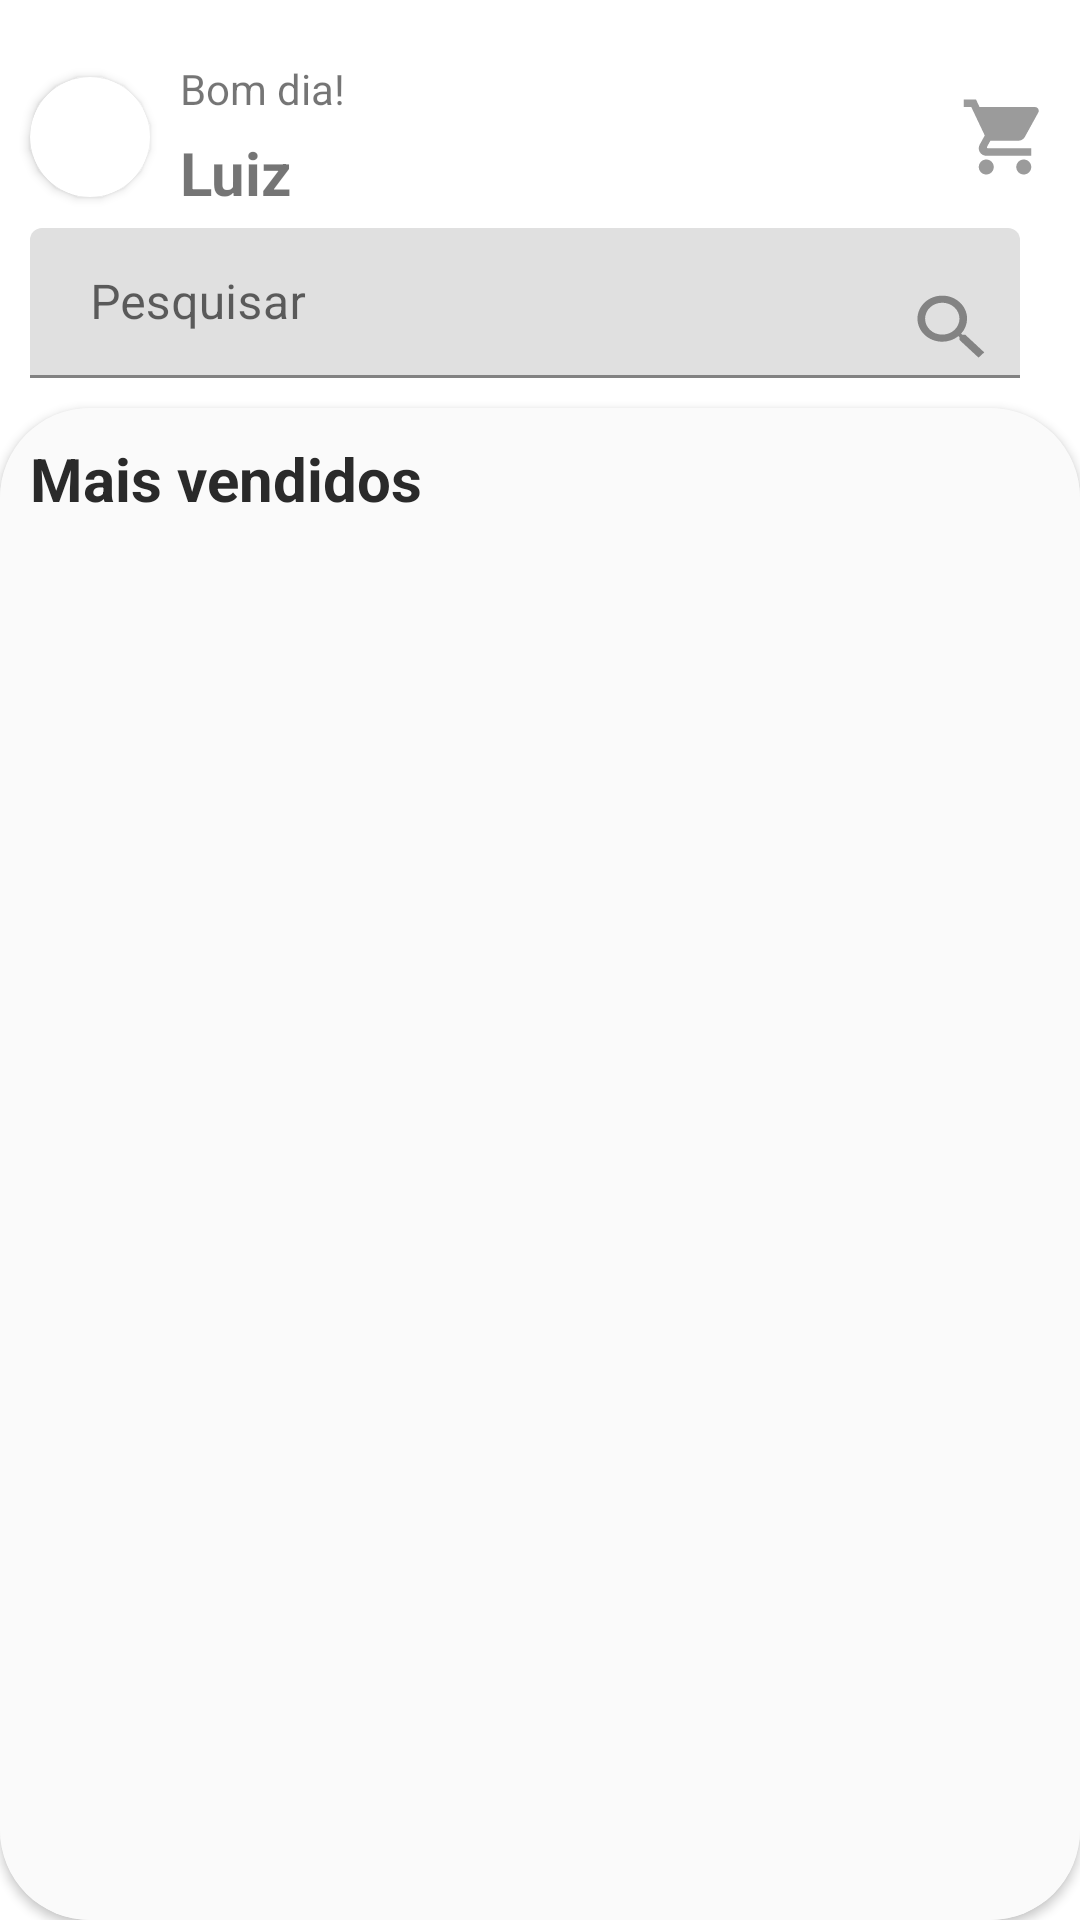

Point at icon controls on the screen. Image size 1080x1920, points as point (x, y).
cart: point (1001, 137)
